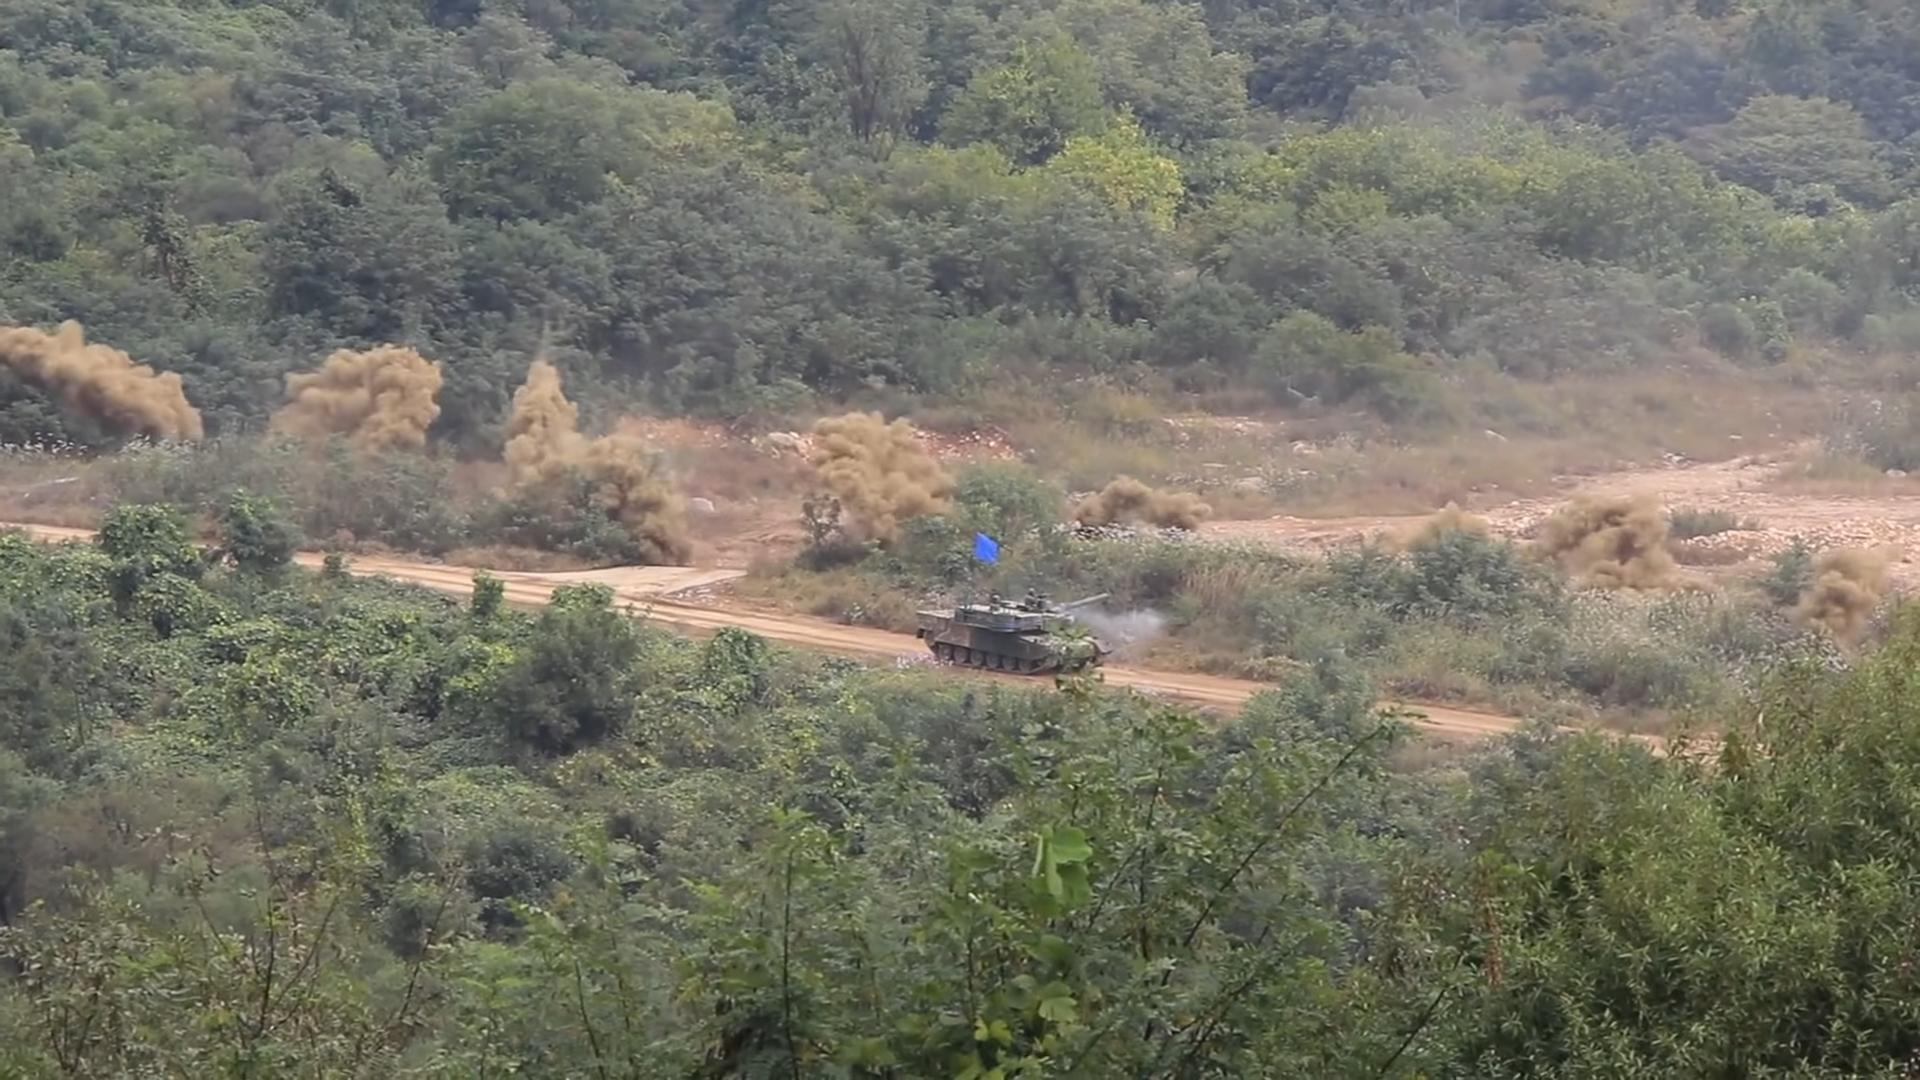tank: (915, 587, 1113, 676)
